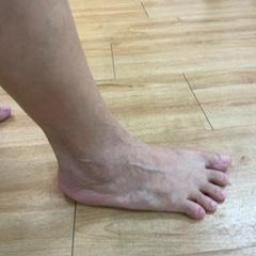Lateral View -Right Foot-: (40, 117, 246, 234)
